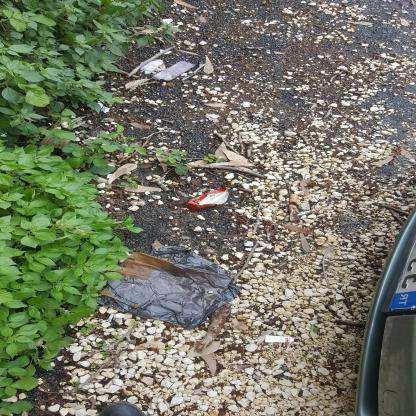plastik: (207, 186, 231, 230), (336, 151, 356, 195)
